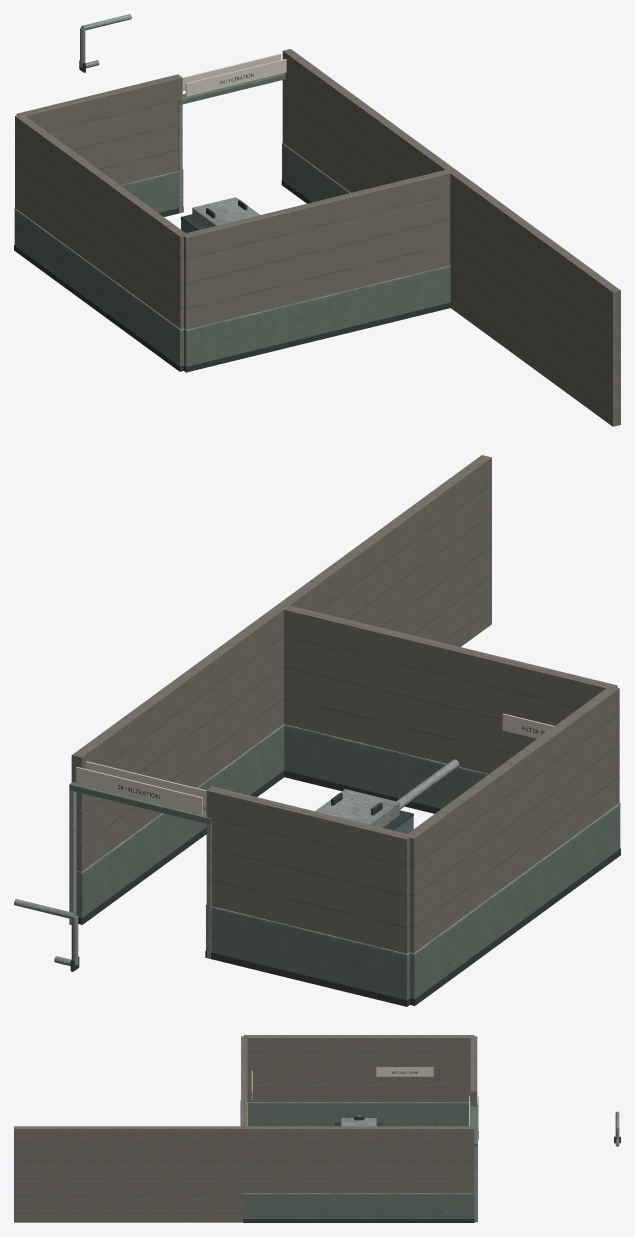
The model's file is power_filtration.glb.
3 views of the same model, one above another, from view 1: azimuth 30°, elevation 25°; view 2: azimuth 150°, elevation 25°; view 3: azimuth 270°, elevation 25° (orthographic). The views are drawn at different scales.
Visible parts, largest first — view 1: power_filtration / power_plaster, power_filtration / power_sage_enamel, power_filtration / power_galvanized, power_filtration / power_blackened_steel, power_filtration / power_instrument_ivory; view 2: power_filtration / power_plaster, power_filtration / power_sage_enamel, power_filtration / power_galvanized, power_filtration / power_blackened_steel, power_filtration / power_instrument_ivory; view 3: power_filtration / power_plaster, power_filtration / power_sage_enamel, power_filtration / power_galvanized, power_filtration / power_blackened_steel, power_filtration / power_instrument_ivory.
Boxes of the visible parts, <box> form: power_filtration / power_plaster: <box>15,49,620,426</box>; power_filtration / power_sage_enamel: <box>14,73,450,366</box>; power_filtration / power_galvanized: <box>14,14,450,331</box>; power_filtration / power_blackened_steel: <box>14,60,450,372</box>; power_filtration / power_instrument_ivory: <box>182,53,286,96</box>; power_filtration / power_plaster: <box>71,455,619,953</box>; power_filtration / power_sage_enamel: <box>69,726,620,999</box>; power_filtration / power_galvanized: <box>14,724,620,966</box>; power_filtration / power_blackened_steel: <box>70,726,620,1006</box>; power_filtration / power_instrument_ivory: <box>76,713,554,814</box>; power_filtration / power_plaster: <box>14,1035,477,1222</box>; power_filtration / power_sage_enamel: <box>243,1103,477,1218</box>; power_filtration / power_galvanized: <box>240,1100,619,1222</box>; power_filtration / power_blackened_steel: <box>243,1071,620,1222</box>; power_filtration / power_instrument_ivory: <box>251,1067,478,1139</box>.
Size of the model in its own units: 7.77 by 3.61 by 21.13.
Materials: 6 (4 with a texture image).
